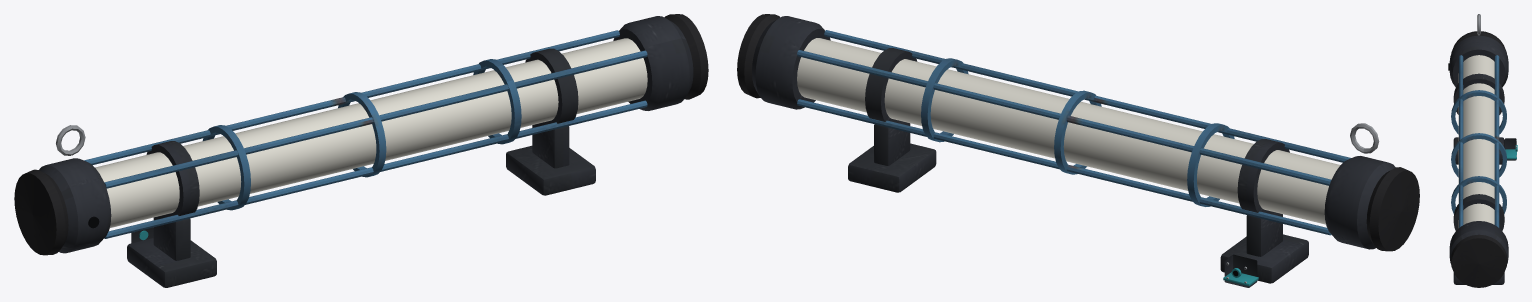
File: packing_lamp.glb
The picture shows the model from 3 angles, left to right: view 1: azimuth 30°, elevation 25°; view 2: azimuth 150°, elevation 25°; view 3: azimuth 270°, elevation 25°; orthographic projection. The views are drawn at different scales.
Parts seen in each view (by area): view 1: Body; view 2: Body; view 3: Body.
Boxes of the visible parts, x1=… form: Body: x1=14, y1=14, x2=708, y2=287; Body: x1=737, y1=14, x2=1419, y2=287; Body: x1=1448, y1=14, x2=1517, y2=287.
Size of the model in its own units: 0.972 by 0.238 by 0.1362.
9 materials, 4 textured.
